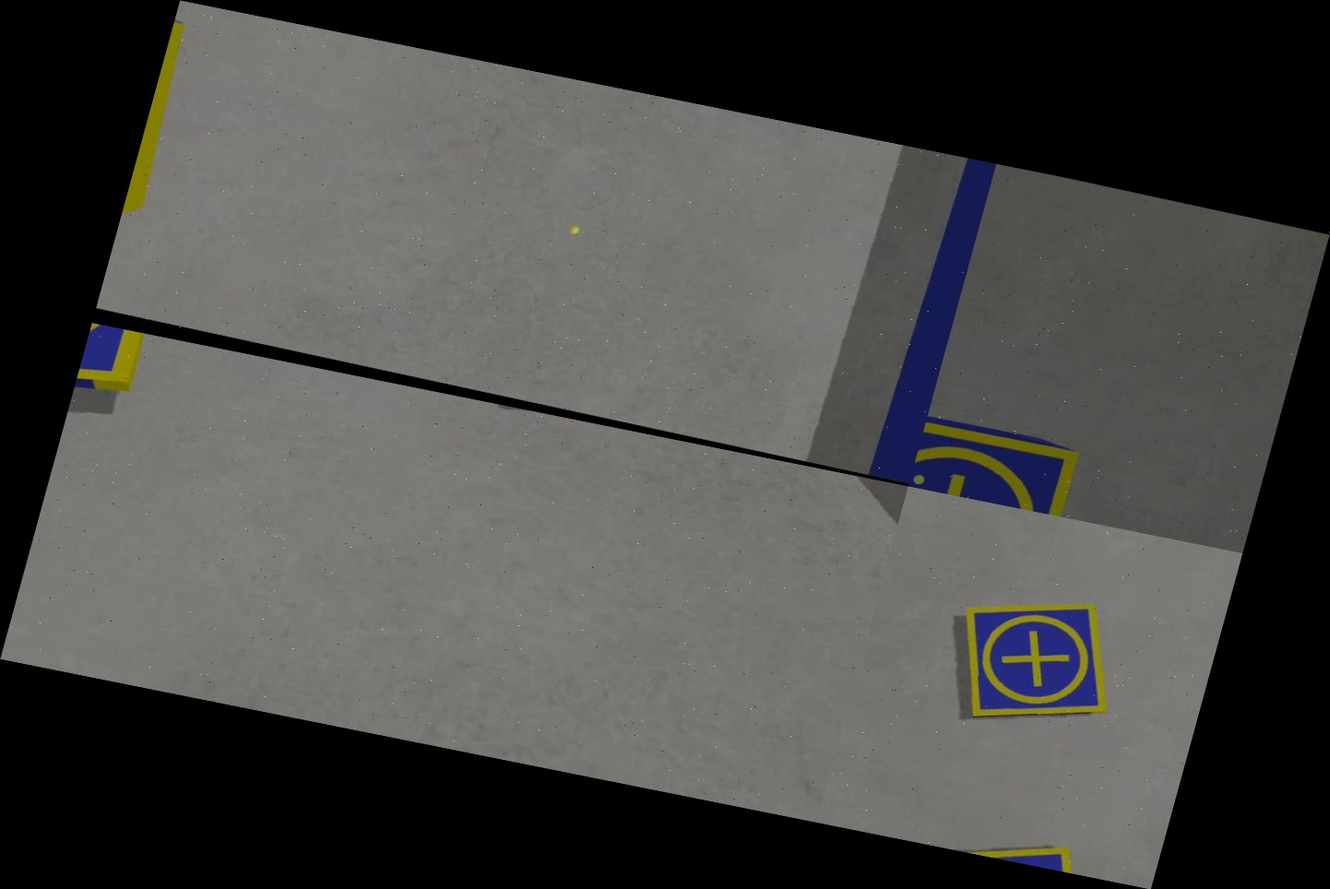large_base: (865, 155, 996, 486)
small_base: (937, 576, 1136, 744), (908, 420, 1077, 516)
